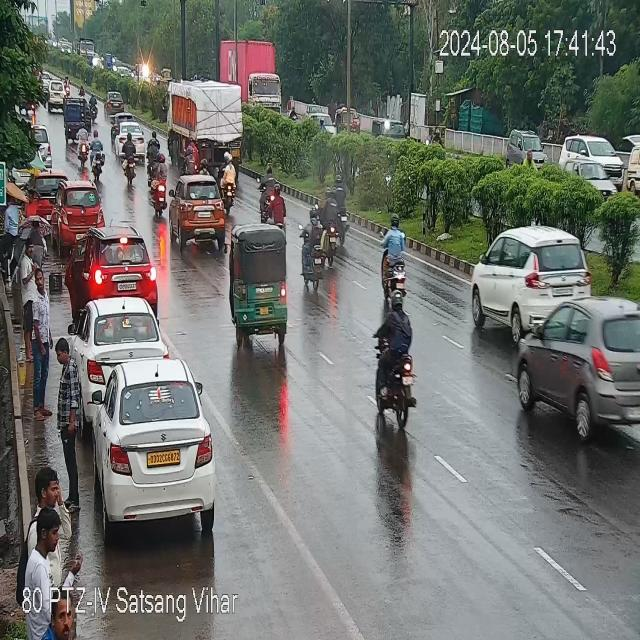2-wheelers: (368, 290, 421, 429), (371, 216, 410, 297), (310, 183, 354, 252), (301, 210, 328, 292), (257, 166, 290, 230), (220, 152, 238, 212), (150, 157, 168, 215), (121, 132, 141, 183), (90, 132, 104, 182), (76, 125, 89, 169), (89, 92, 98, 120)
auto: (226, 225, 292, 352), (61, 99, 90, 136)
car: (87, 355, 217, 527), (510, 296, 639, 437), (466, 226, 596, 306), (77, 297, 161, 381), (70, 224, 158, 304), (173, 175, 228, 250), (564, 130, 622, 184), (52, 186, 104, 243), (564, 156, 620, 202), (506, 123, 550, 173), (25, 125, 56, 170), (37, 172, 67, 214), (115, 120, 144, 150), (310, 110, 339, 140), (105, 90, 126, 114), (47, 77, 65, 102)
pedestrian: (22, 474, 72, 622), (53, 333, 81, 494), (32, 271, 51, 423), (19, 239, 34, 353)
truck: (164, 77, 241, 176), (216, 39, 284, 115), (76, 38, 97, 66)
